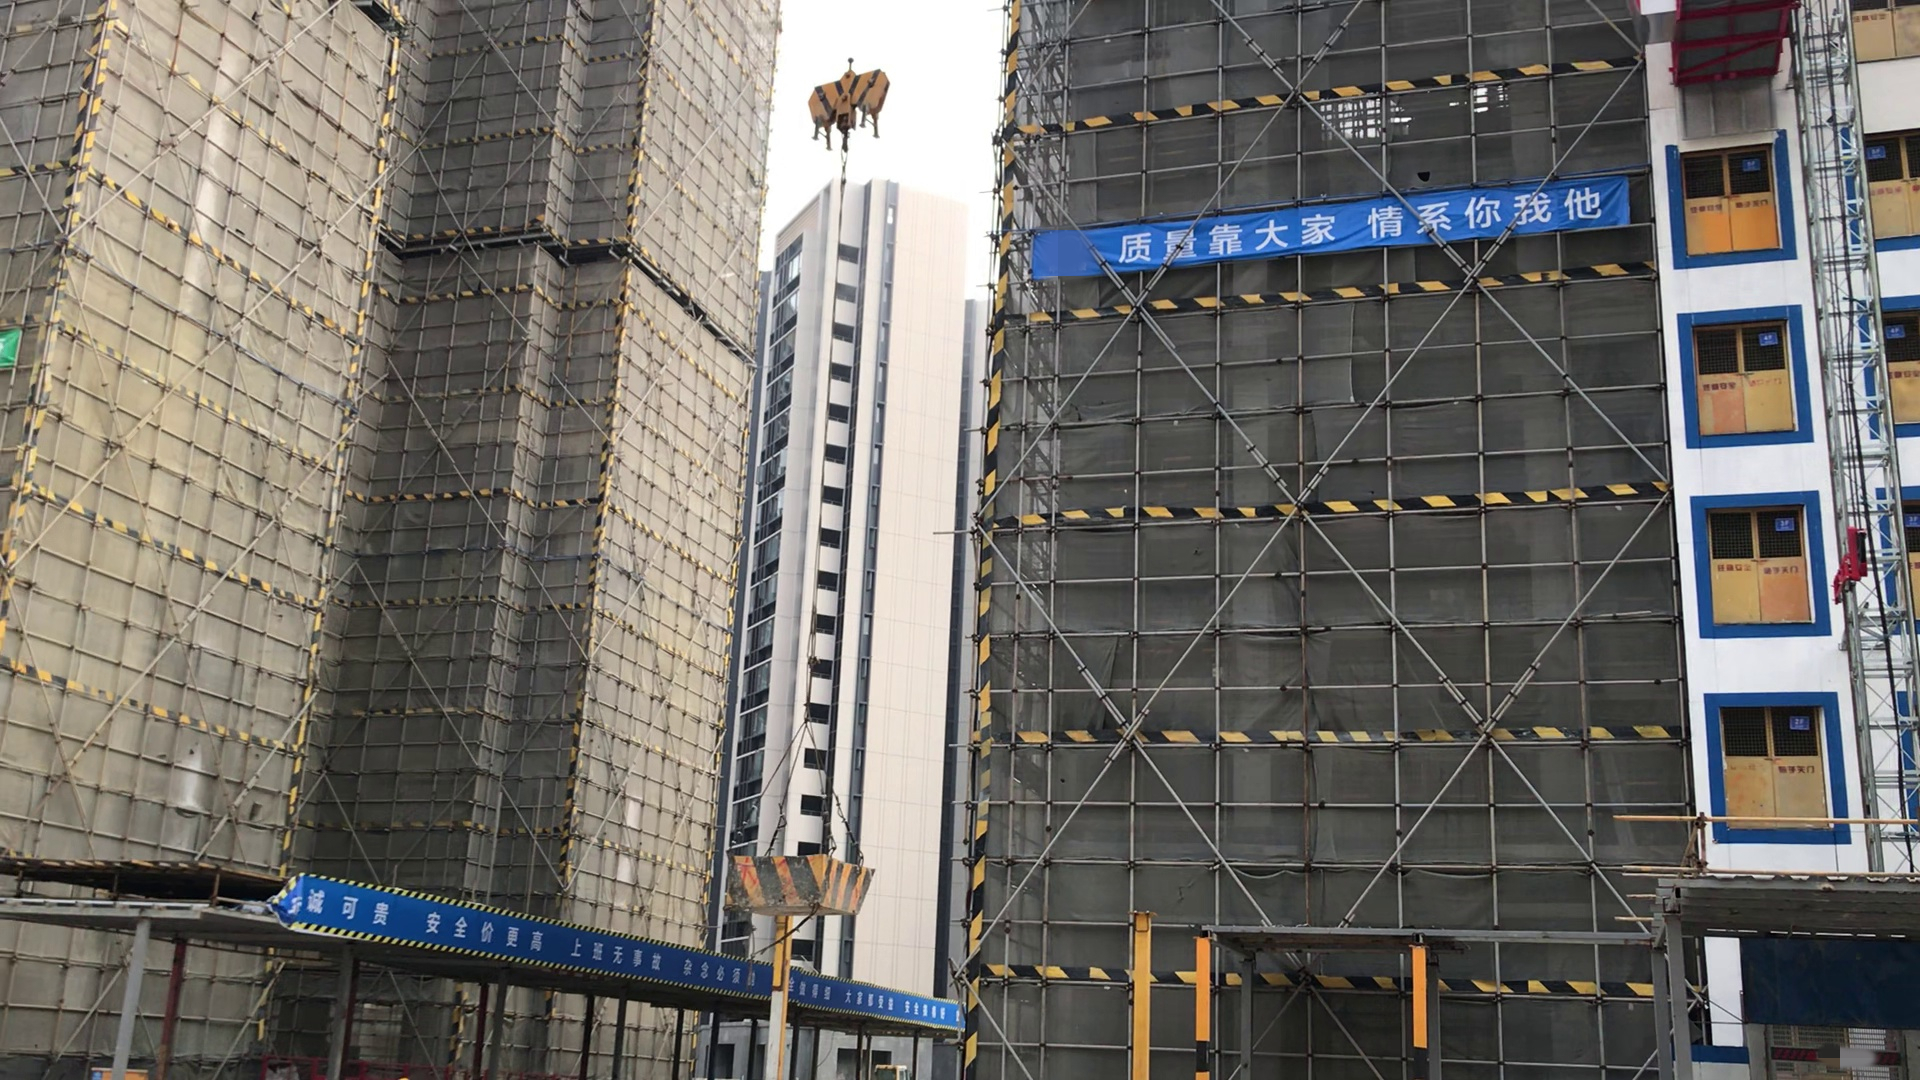hook: (808, 62, 889, 153)
hopper: (719, 843, 876, 923)
slogan: (287, 868, 957, 1026), (1095, 174, 1633, 273)
